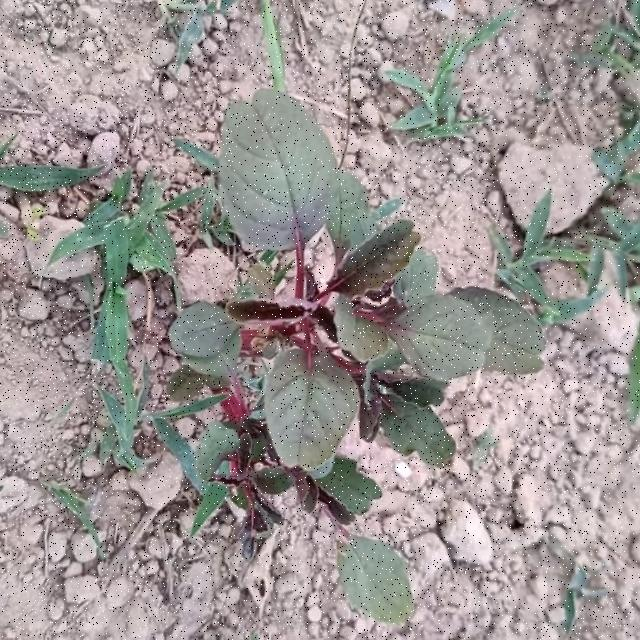plant: (169, 89, 542, 547), (339, 538, 412, 621)
